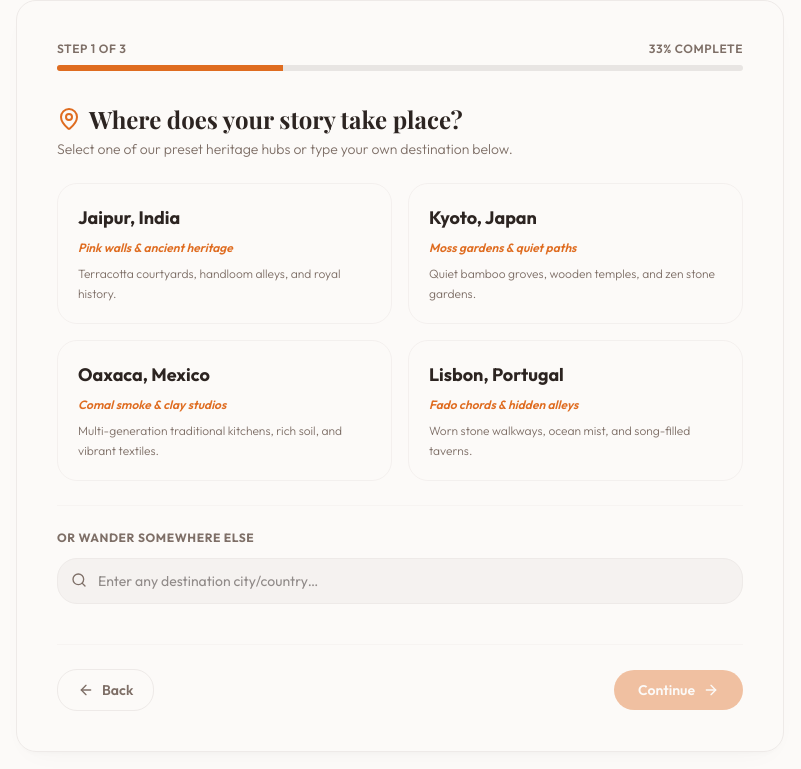
ExperienceForm — Step 2 (Mood) › renders step 2 after advancing from step 1
Type "Kyoto" into the field with placeholder "Enter any destination city/country…".
click(400, 581); type("Kyoto")  # box [57, 558, 743, 604]
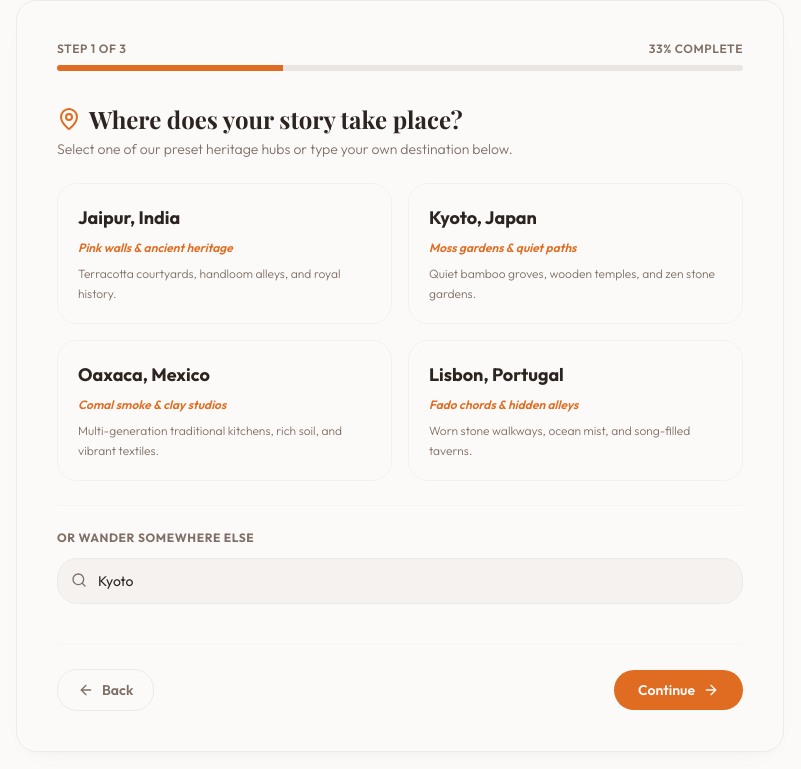
Click the button "Continue".
click(679, 690)  # box [614, 670, 743, 710]
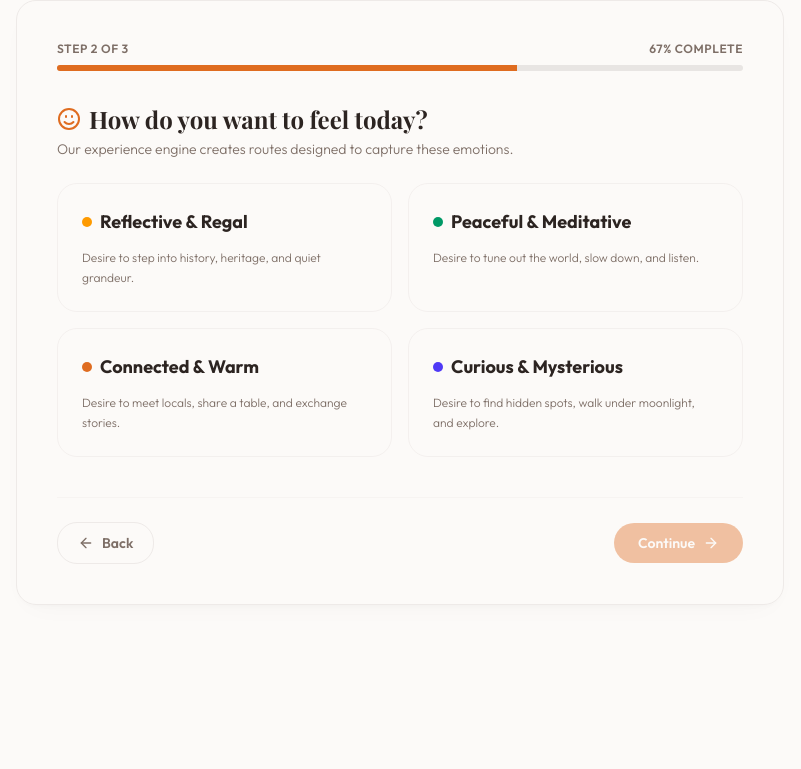
expect the heading "How do you want to feel today?" is shown: met, box [57, 103, 428, 135]
